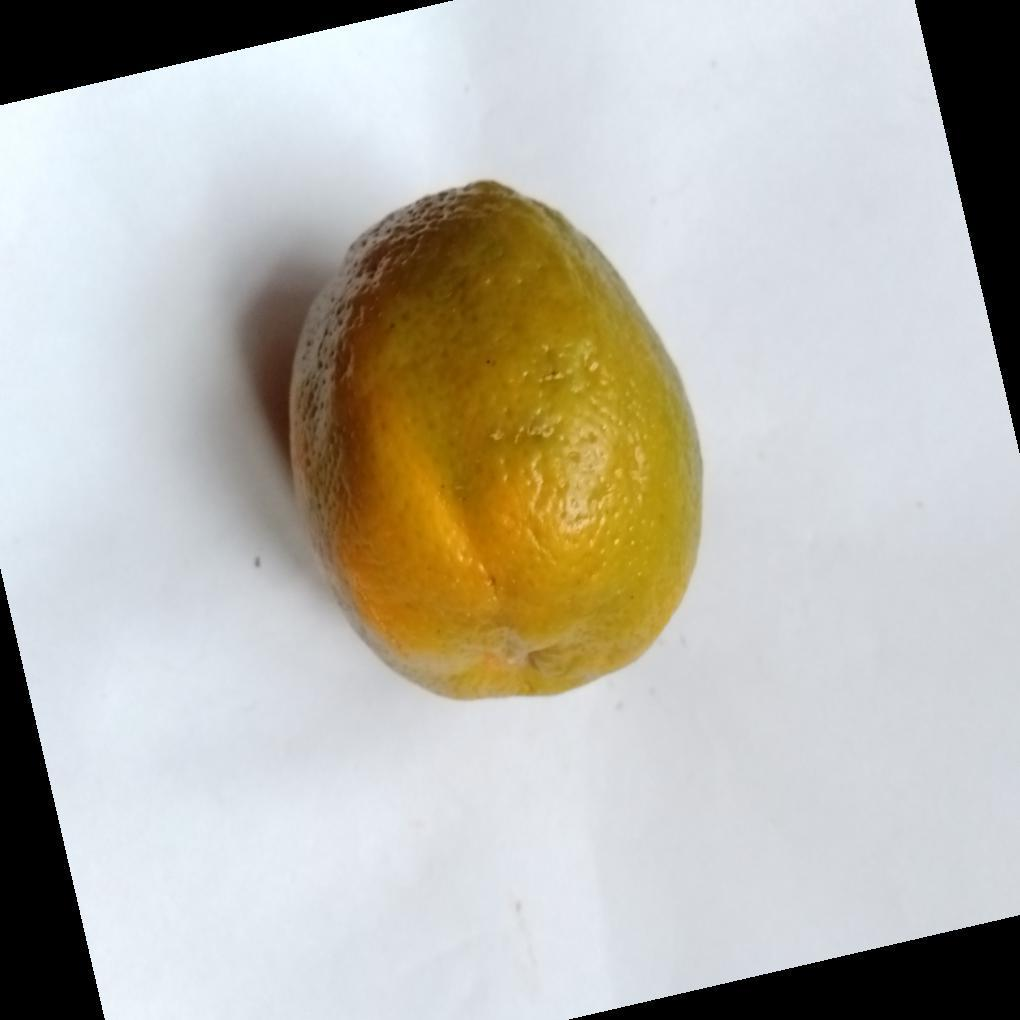FreshGuava: (286, 182, 705, 704)
